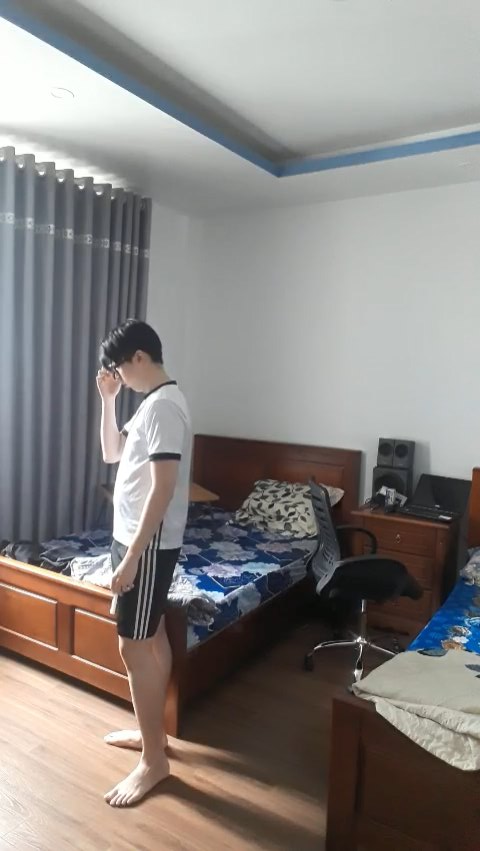cigarette: (109, 589, 121, 614)
person: (77, 316, 202, 815)
